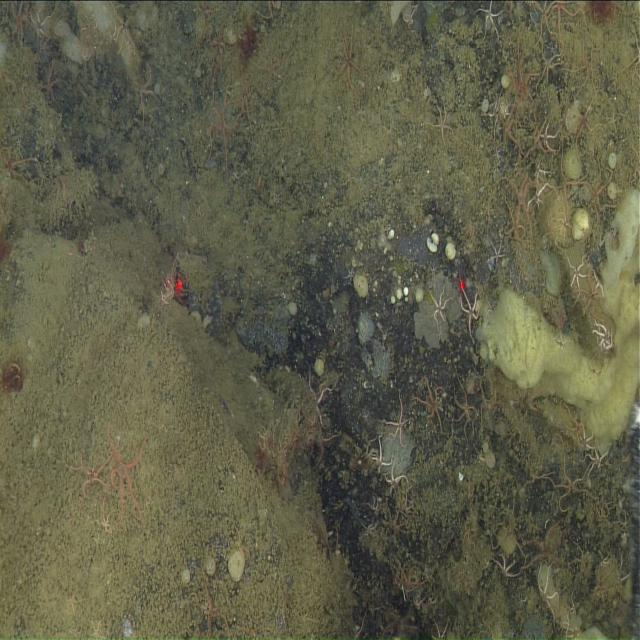Brittle Star: (328, 23, 369, 106), (425, 95, 459, 152), (424, 278, 455, 336), (457, 281, 485, 342), (566, 252, 590, 295), (154, 284, 176, 317)
